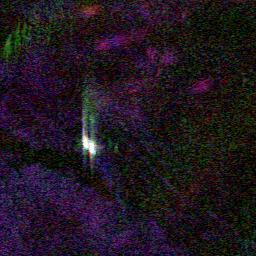Ship: (81, 135, 99, 155)
